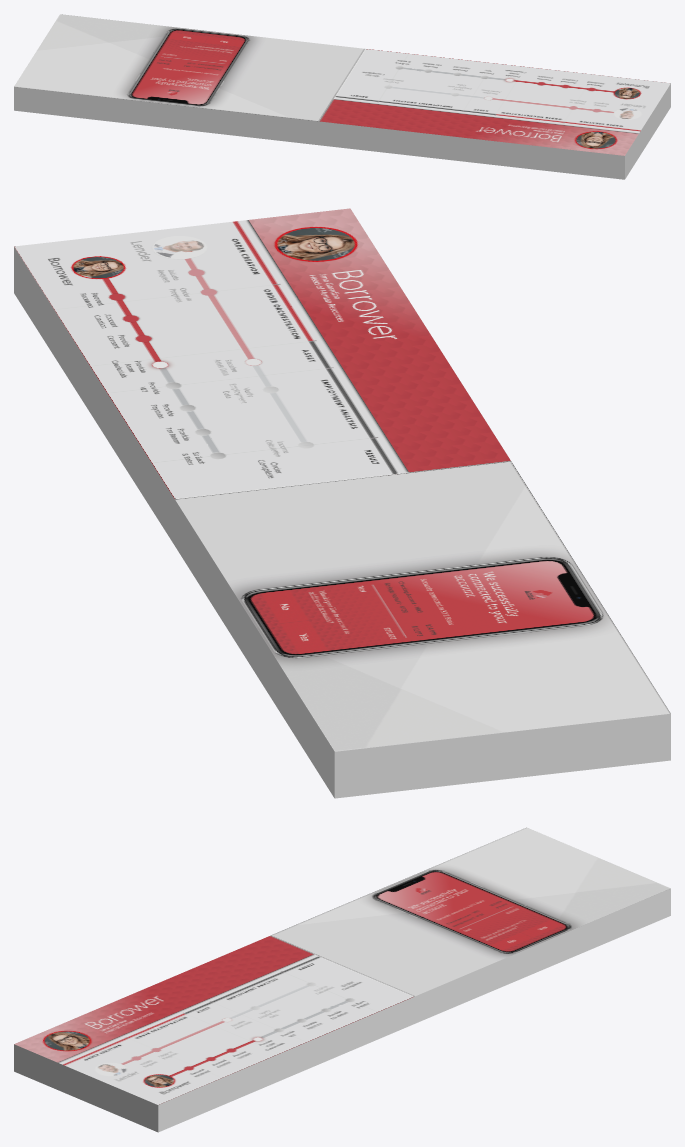
File: Tabletop_2.obj
3 views of the same model, one above another, from view 1: azimuth 30°, elevation 25°; view 2: azimuth 150°, elevation 25°; view 3: azimuth 270°, elevation 25° (orthographic). The views are drawn at different scales.
Visible parts, largest first — view 1: Mesh171_Component_10_1_Model; view 2: Mesh171_Component_10_1_Model; view 3: Mesh171_Component_10_1_Model.
Part boxes in pixels (x1=…): Mesh171_Component_10_1_Model: x1=14, y1=14, x2=670, y2=179; Mesh171_Component_10_1_Model: x1=14, y1=208, x2=670, y2=798; Mesh171_Component_10_1_Model: x1=14, y1=827, x2=670, y2=1132.
Size of the model in its own units: 87 by 4 by 86.97.
Materials: 3 (2 with a texture image).
